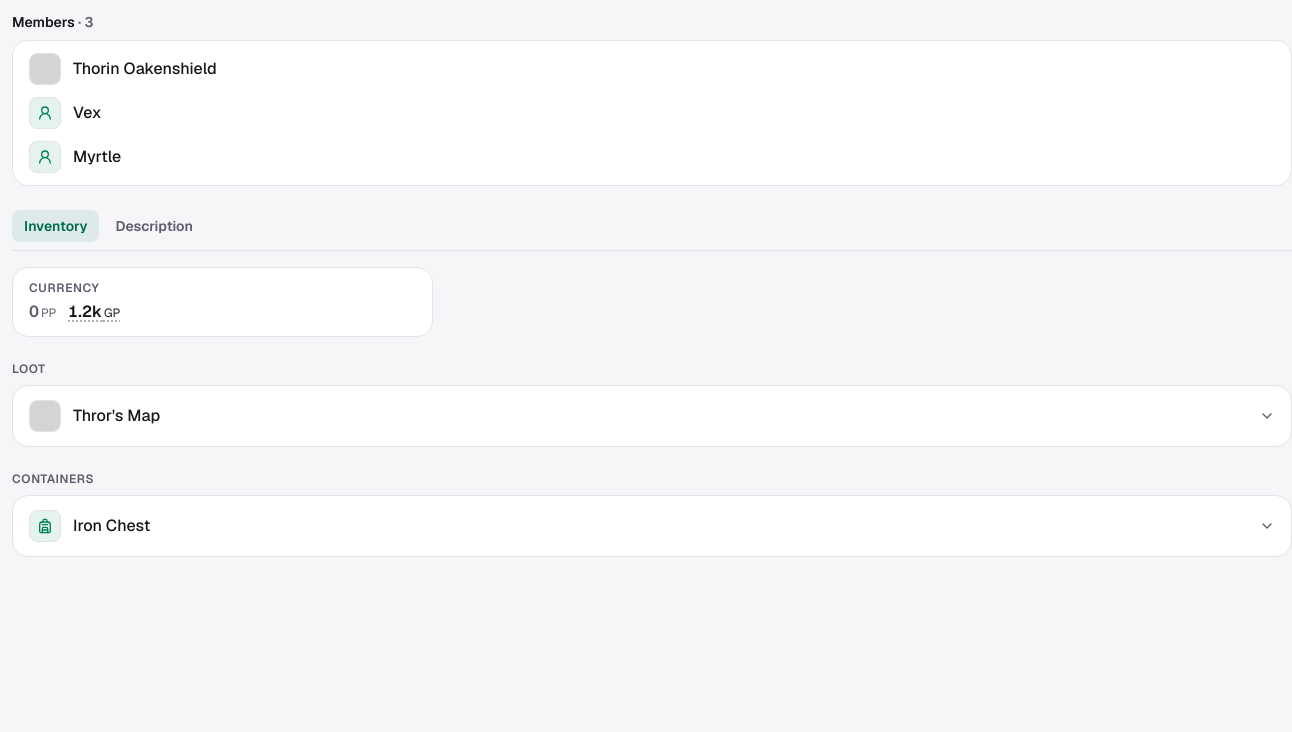
it: components/party-sheet › PartySheet › says so of a party with no description
The image size is (1292, 732).
Click the tab "Description" at (154,226), box [103, 210, 205, 242]
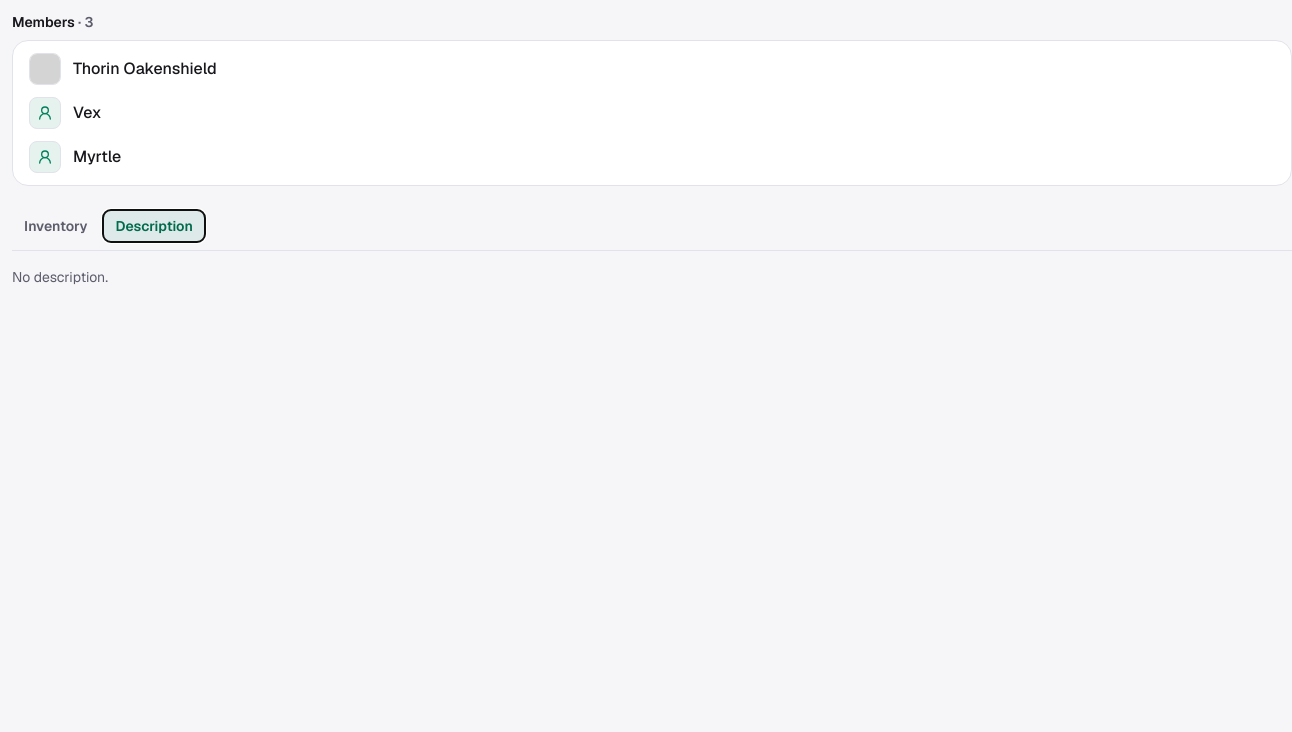
Expected: the text "No description." is shown, [12, 268, 108, 286]
